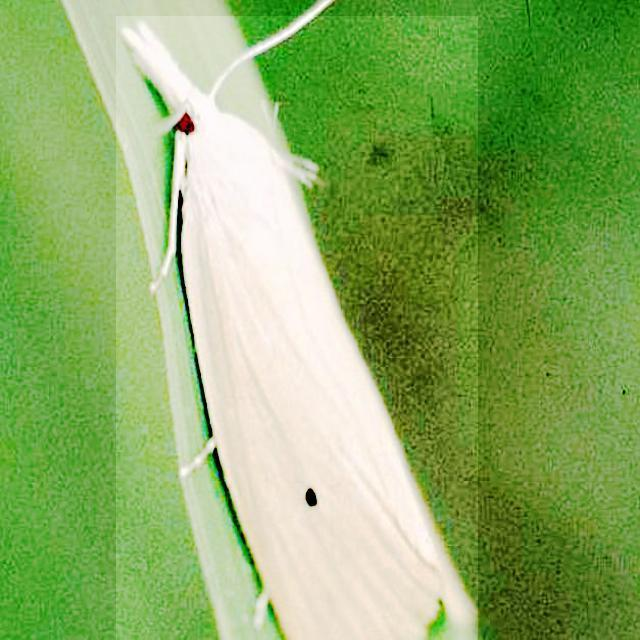stem-borer: (116, 16, 478, 640)
